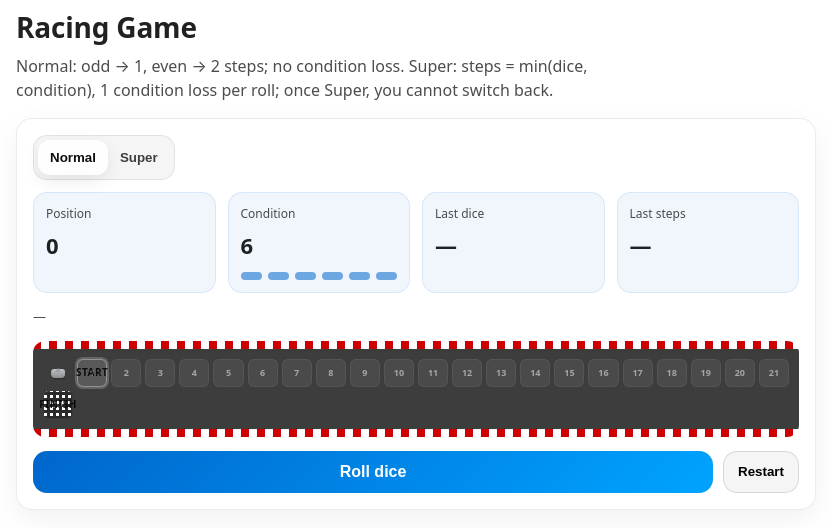
Test case: RacingGame › decreases condition by 1 per roll in super mode
Expected: the text with test id "condition" reads "6", 240,230 -> 253,260
Click the button with test id "mode-super" at (139, 158), box 108,140 -> 170,175
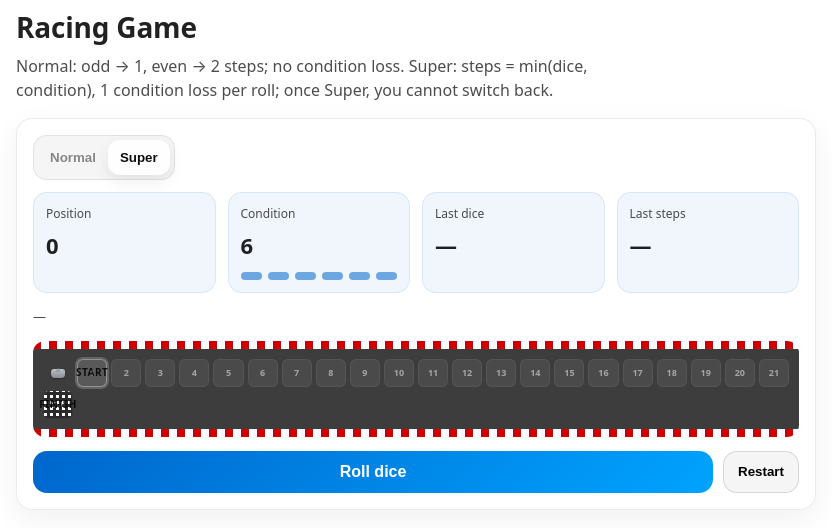
Click the button with test id "roll" at (373, 472), box 33,451 -> 713,493
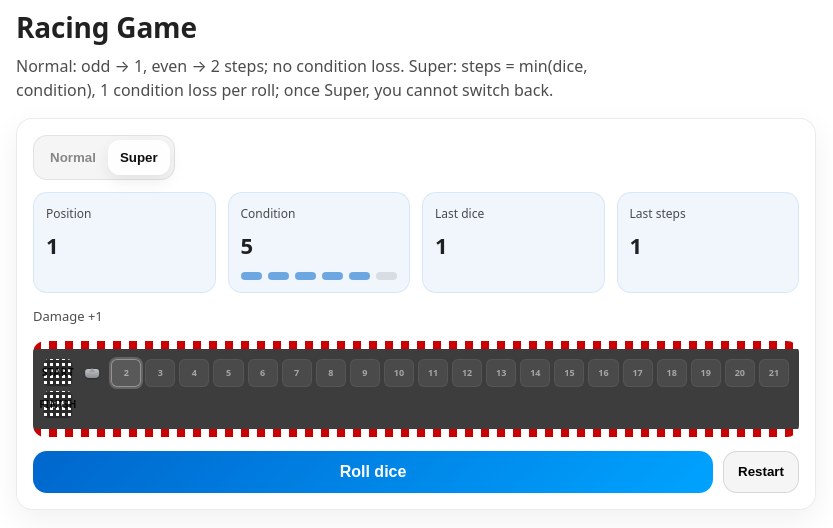
Expected: the text with test id "condition" reads "5", 240,230 -> 253,260
Expected: the text with test id "damage" reads "Damage +1", 33,307 -> 103,325
